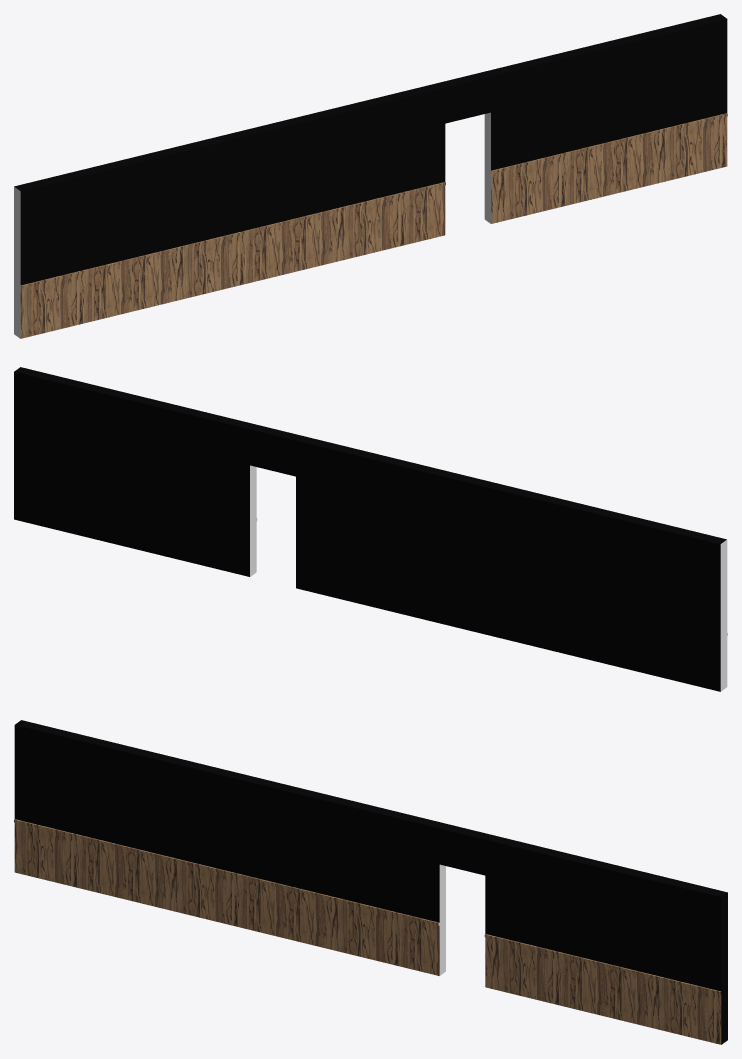
The model's file is Wall 2.FBX.
The picture shows the model from 3 angles, top to bottom: view 1: azimuth 30°, elevation 25°; view 2: azimuth 150°, elevation 25°; view 3: azimuth 330°, elevation 25°; orthographic projection.
Visible parts, largest first — view 1: Wall 2; view 2: Wall 2; view 3: Wall 2.
Part boxes in pixels (x1,y1,x2,y2): Wall 2: (14, 14, 727, 338); Wall 2: (14, 367, 727, 691); Wall 2: (14, 720, 727, 1044).
Bounding box in the file's own units: 1363 × 272 × 24.56.
